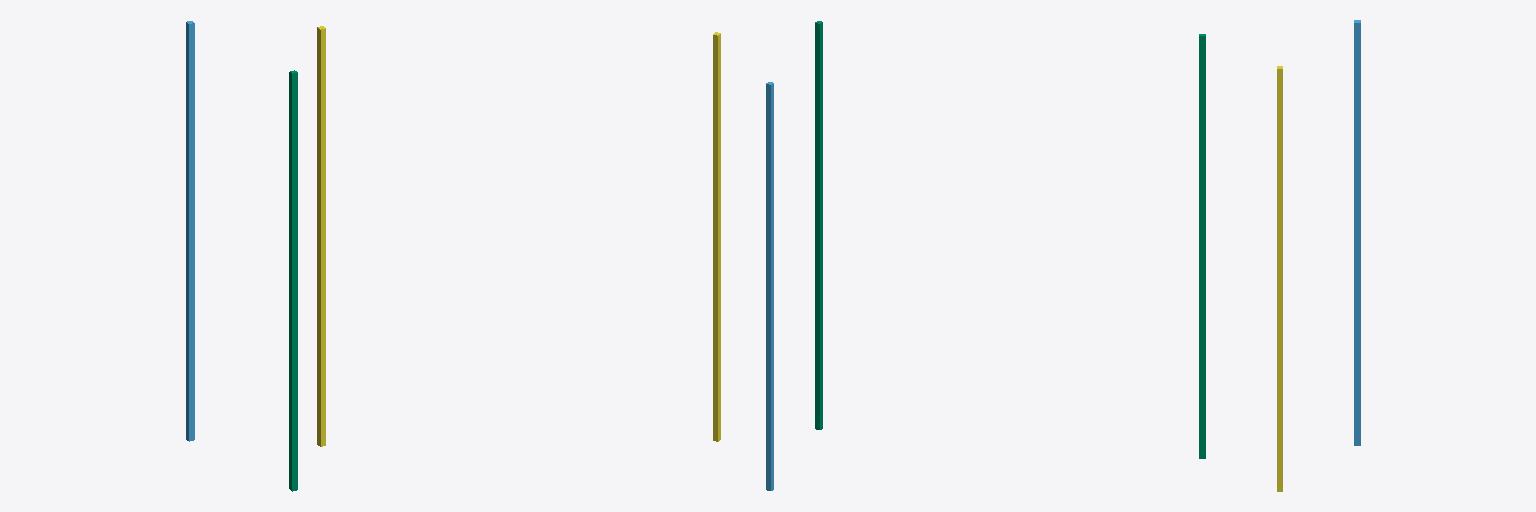
The robot description file, URDF, robot "poles":
<robot name="poles">
   <material name="Brown">
     <color rgba="83./255. 53./255. 10./255."/>
   </material>
   <material name="White">
     <color rgba="1 1 1"/>
   </material>
   <material name="Grey">
     <color rgba=".3 .3 .3"/>
   </material>
   <material name="Red">
     <color rgba="1 0 0"/>
   </material>
   <link name="world"/>

   <link name="pole1">
   	<inertial>
   		<mass value=".5" />
   		<origin xyz="0 0 1.5" rpy="0 0 0"/>
		  <inertia ixx="10"  ixy="0"  ixz="0" iyy="10" iyz="0" izz="1" />
   	</inertial>
  	<visual>
      <origin xyz="-0.021 -0.021 1.5" rpy="0 0 0" />
      <geometry>
        <box size="0.042 0.042 3"/>
      </geometry>
      <material name="White"/>
    </visual>
    <collision>
      <origin xyz="-0.021 -0.021 1.5" rpy="0 0 0" />
      <geometry>
        <box size="0.042 0.042 3"/>
      </geometry>
    </collision>
   </link>
   <joint name="pole1_weld" type="fixed">
    <parent link="world"/>
      <child link="pole1"/>
    <origin xyz="-1 .5 0" rpy="0 0 0" />
   </joint>

   <link name="pole2">
   	<inertial>
   		<mass value=".5" />
   		<origin xyz="0 0 1.5" rpy="0 0 0"/>
		  <inertia ixx="10"  ixy="0"  ixz="0" iyy="10" iyz="0" izz="1" />
   	</inertial>
  	<visual>
      <origin xyz="-0.021 -0.021 1.5" rpy="0 0 0" />
      <geometry>
        <box size="0.042 0.042 3"/>
      </geometry>
      <material name="White"/>
    </visual>
    <collision>
      <origin xyz="-0.021 -0.021 1.5" rpy="0 0 0" />
      <geometry>
        <box size="0.042 0.042 3"/>
      </geometry>
    </collision>
   </link>
   <joint name="pole2_weld" type="fixed">
    <parent link="world"/>
      <child link="pole2"/>
    <origin xyz="-.8 -.5 0" rpy="0 0 0" />
   </joint>

   <link name="pole3">
   	<inertial>
   		<mass value=".5" />
   		<origin xyz="0 0 1.5" rpy="0 0 0"/>
		  <inertia ixx="10"  ixy="0"  ixz="0" iyy="10" iyz="0" izz="1" />
   	</inertial>
  	<visual>
      <origin xyz="-0.021 -0.021 1.5" rpy="0 0 0" />
      <geometry>
        <box size="0.042 0.042 3"/>
      </geometry>
      <material name="White"/>
    </visual>
    <collision>
      <origin xyz="-0.021 -0.021 1.5" rpy="0 0 0" />
      <geometry>
        <box size="0.042 0.042 3"/>
      </geometry>
    </collision>
   </link>
   <joint name="pole3_weld" type="fixed">
    <parent link="world"/>
      <child link="pole3"/>
    <origin xyz="-.3 0 0" rpy="0 0 0" />
   </joint>

</robot>

--- What the picture shows (computed from the rendered views, not written in the file) ---
3 views of the same robot in one strip: view 1: azimuth 30°, elevation 25°; view 2: azimuth 150°, elevation 25°; view 3: azimuth 270°, elevation 25° (orthographic).
Robot: poles — 4 links, 3 joints (3 fixed); root link world; default pose: all joints at 0.
Links seen in each view (by area): view 1: pole2, pole3, pole1; view 2: pole3, pole1, pole2; view 3: pole1, pole2, pole3.
Link boxes in pixels (x1,y1,x2,y2): pole2: [289, 70, 297, 491]; pole3: [317, 26, 325, 446]; pole1: [186, 21, 194, 441]; pole3: [713, 32, 720, 441]; pole1: [766, 82, 773, 490]; pole2: [815, 21, 822, 429]; pole1: [1354, 20, 1360, 445]; pole2: [1199, 34, 1205, 458]; pole3: [1277, 66, 1282, 491].
Bounding box of the posed robot: 0.742 × 1.04 × 3 m (x, y, z).
Geometry: primitives only (box / cylinder / sphere), no mesh files.
